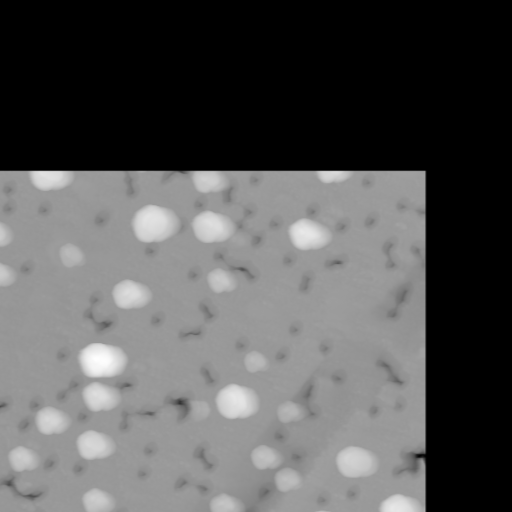Hole: (386, 440, 424, 480), (162, 387, 203, 423), (372, 344, 407, 386), (0, 471, 47, 500), (378, 285, 414, 321), (119, 404, 159, 434), (188, 442, 222, 470), (377, 236, 399, 271), (296, 370, 318, 401), (394, 195, 424, 217), (196, 297, 219, 322), (298, 265, 316, 296), (281, 312, 304, 335), (175, 323, 208, 339), (52, 380, 78, 400), (120, 170, 139, 197), (239, 258, 258, 284), (211, 250, 240, 266), (285, 444, 310, 461), (410, 240, 424, 270), (247, 224, 265, 247), (157, 170, 186, 184), (327, 367, 347, 387), (313, 490, 338, 506), (361, 211, 382, 230), (273, 346, 292, 367), (170, 470, 189, 491), (140, 437, 159, 458), (195, 360, 213, 382), (83, 295, 101, 317), (247, 170, 264, 193), (316, 332, 332, 356), (42, 452, 61, 472), (324, 254, 346, 271), (390, 393, 409, 412), (358, 171, 377, 190), (94, 318, 118, 333), (367, 399, 383, 421), (345, 483, 364, 501), (253, 481, 273, 498), (145, 309, 166, 325), (90, 207, 106, 227), (116, 379, 138, 393), (135, 464, 152, 482), (52, 344, 69, 362), (11, 414, 29, 431), (0, 395, 13, 418), (334, 214, 351, 231), (307, 405, 326, 420), (281, 253, 298, 269), (241, 201, 258, 217), (0, 199, 16, 216), (303, 201, 321, 216), (182, 265, 200, 280), (265, 211, 281, 227), (270, 426, 288, 440), (137, 246, 158, 257), (0, 180, 15, 195), (20, 261, 36, 275), (36, 200, 49, 216), (194, 478, 208, 492), (193, 194, 206, 209), (233, 334, 246, 349), (29, 503, 52, 511), (72, 461, 86, 474), (27, 393, 40, 407), (220, 190, 235, 202), (74, 413, 88, 424), (235, 222, 246, 230), (113, 507, 131, 511), (3, 507, 20, 511), (244, 510, 261, 511)
Particle: (122, 205, 184, 243), (327, 442, 380, 480), (75, 340, 127, 378), (213, 381, 261, 421), (187, 208, 236, 244), (105, 275, 156, 309), (284, 217, 336, 250), (72, 427, 116, 459), (80, 381, 120, 413), (77, 482, 117, 511), (32, 405, 72, 434), (372, 489, 424, 511), (26, 170, 76, 192), (246, 441, 286, 468), (201, 266, 239, 294), (189, 170, 235, 192), (4, 443, 40, 471), (53, 242, 90, 269), (272, 465, 305, 494), (206, 490, 245, 511), (276, 400, 308, 423), (309, 170, 355, 186), (241, 349, 269, 373), (0, 258, 19, 291), (0, 218, 19, 250), (296, 509, 356, 511)
